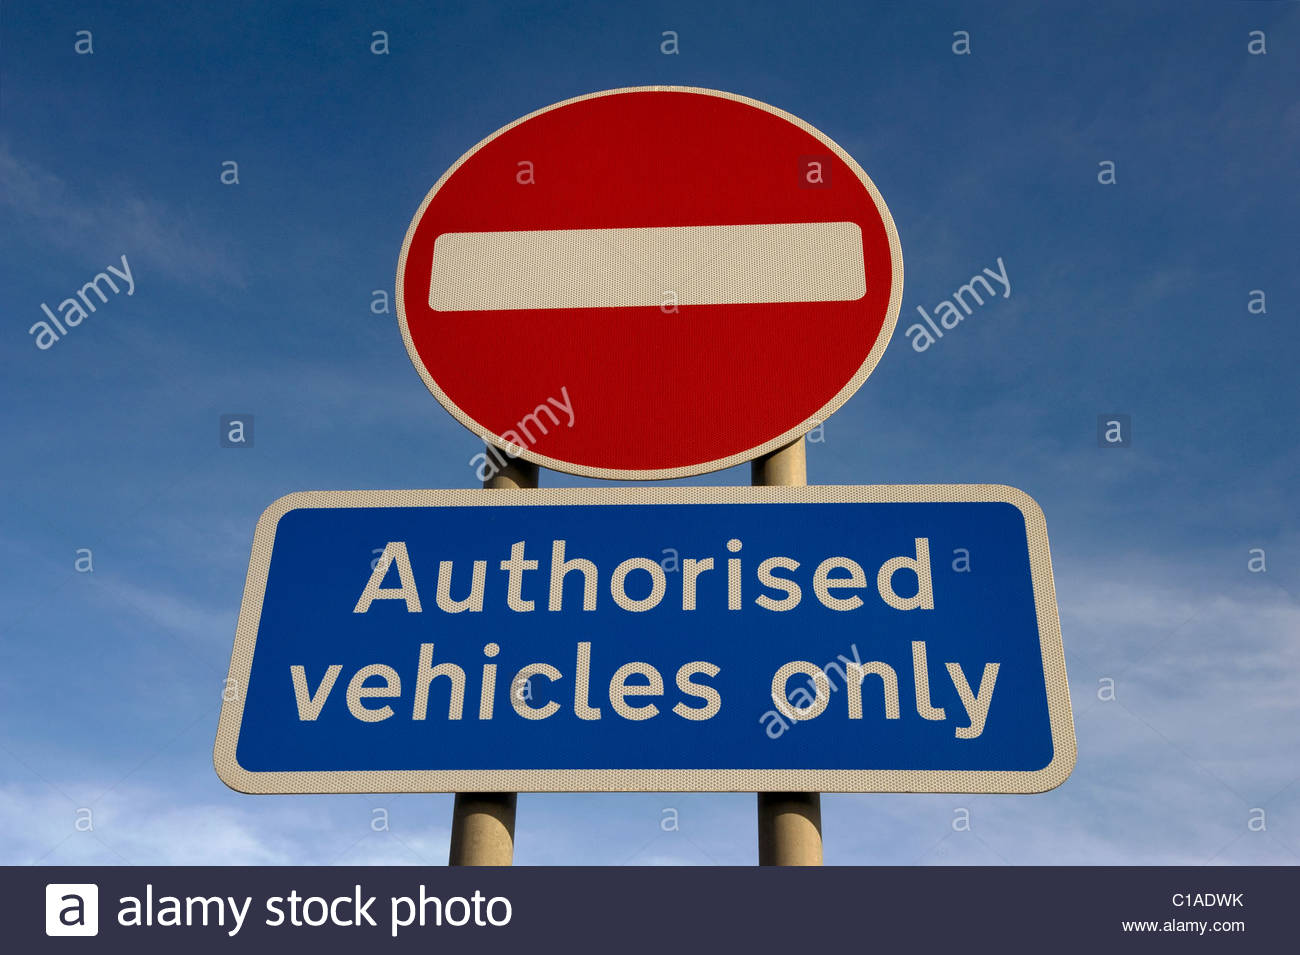No_entry: (392, 83, 905, 480)
